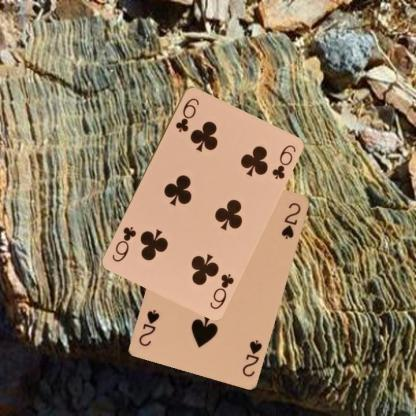2s: (239, 337, 264, 378)
6c: (207, 270, 235, 310), (173, 94, 200, 134)
